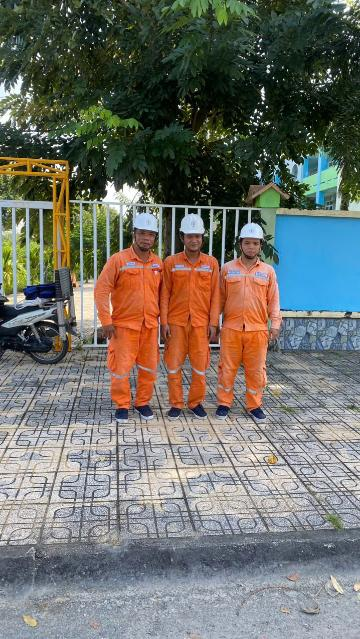helmet: (173, 209, 209, 239), (128, 206, 164, 235), (237, 220, 268, 244)
shoes: (188, 400, 211, 421), (166, 399, 182, 427), (113, 405, 133, 427), (215, 393, 229, 423), (134, 403, 154, 422), (249, 404, 267, 422)
